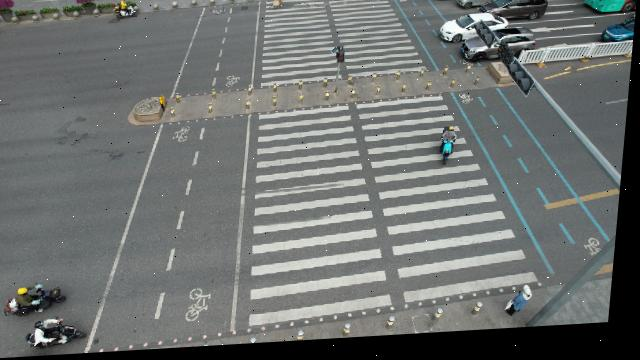non-motor-vehicle: (23, 316, 98, 352), (5, 286, 81, 318), (443, 131, 463, 172), (112, 1, 142, 23)
person: (510, 288, 541, 327), (277, 0, 287, 11)
